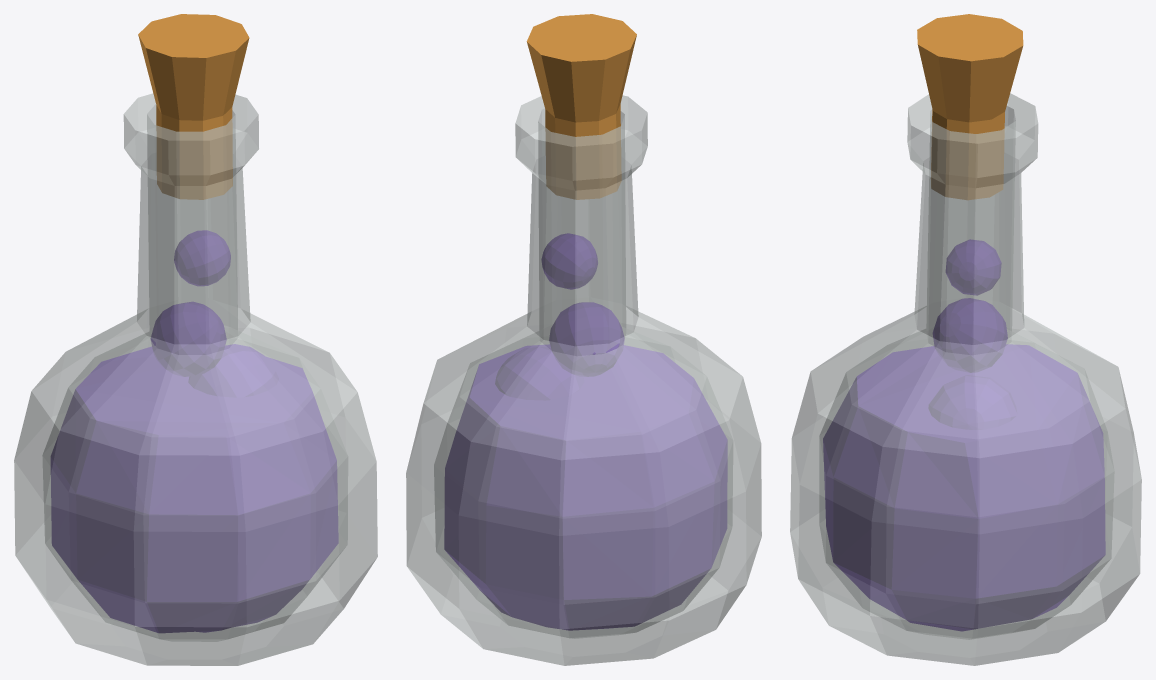
File: potion-haste.glb
The picture shows the model from 3 angles, left to right: view 1: azimuth 30°, elevation 25°; view 2: azimuth 150°, elevation 25°; view 3: azimuth 270°, elevation 25°; orthographic projection.
Visible parts, largest first — view 1: group2068853349; view 2: group2068853349; view 3: group2068853349.
Boxes of the visible parts, x1=… form: group2068853349: x1=14, y1=14, x2=377, y2=665; group2068853349: x1=406, y1=14, x2=761, y2=665; group2068853349: x1=790, y1=14, x2=1141, y2=665.
Bounding box in the file's own units: 0.1781 × 0.32 × 0.174.
